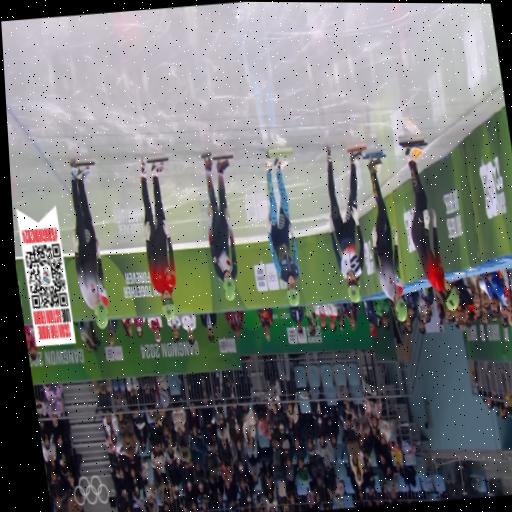Skater: (405, 144, 458, 309), (368, 156, 406, 320), (70, 162, 107, 327), (326, 146, 363, 302), (139, 158, 175, 318), (264, 152, 299, 305), (203, 155, 236, 300)
